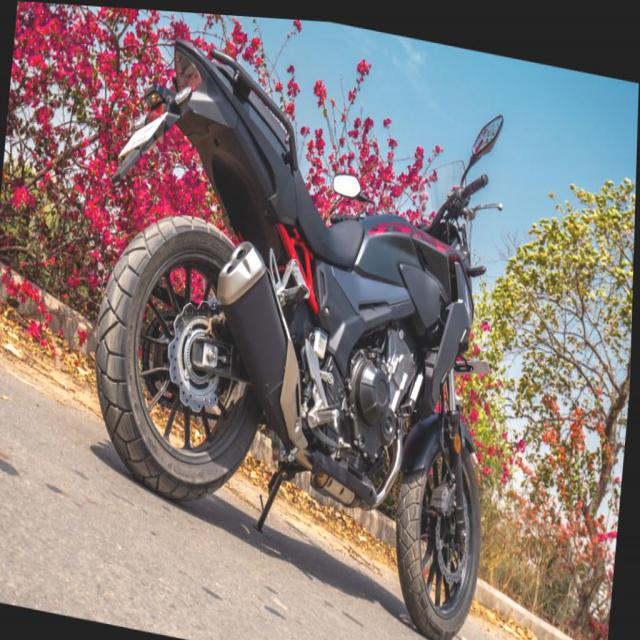CB500X: (66, 14, 527, 639)
